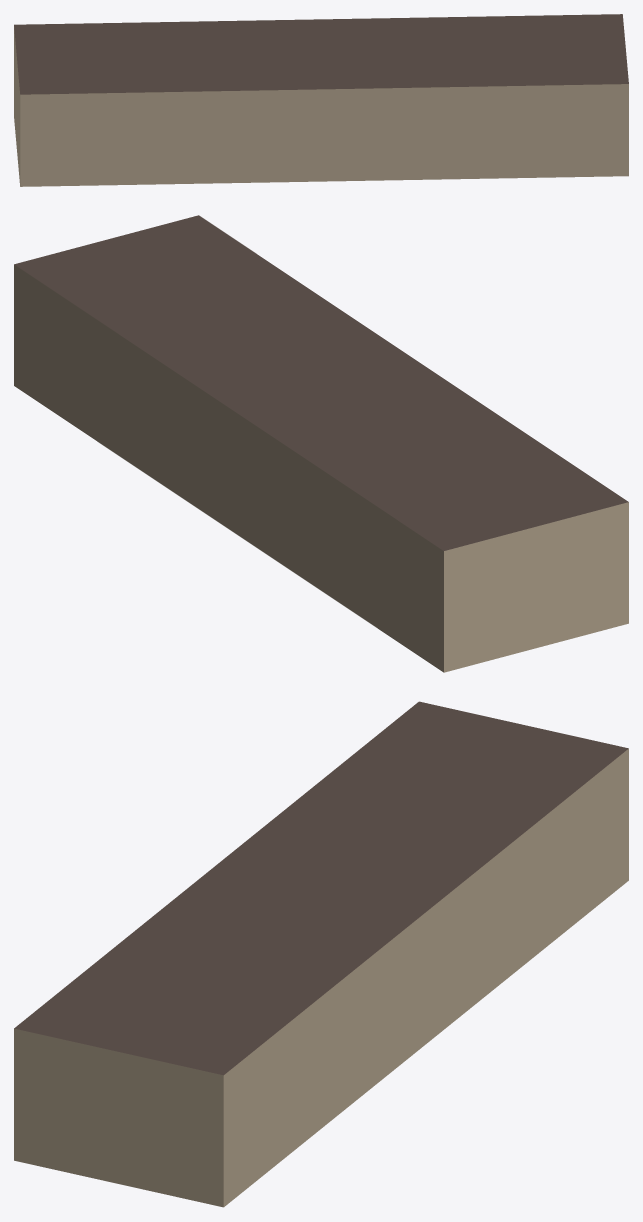
The picture shows the model from 3 angles, top to bottom: view 1: azimuth 30°, elevation 25°; view 2: azimuth 150°, elevation 25°; view 3: azimuth 270°, elevation 25°; orthographic projection. The views are drawn at different scales.
Parts seen in each view (by area): view 1: HP-w1286966221; view 2: HP-w1286966221; view 3: HP-w1286966221.
Part boxes in pixels (bbox=[...]): HP-w1286966221: bbox=[14, 14, 628, 186]; HP-w1286966221: bbox=[14, 215, 628, 672]; HP-w1286966221: bbox=[14, 701, 628, 1207].
Size of the model in its own units: 54.61 by 9 by 37.96.
